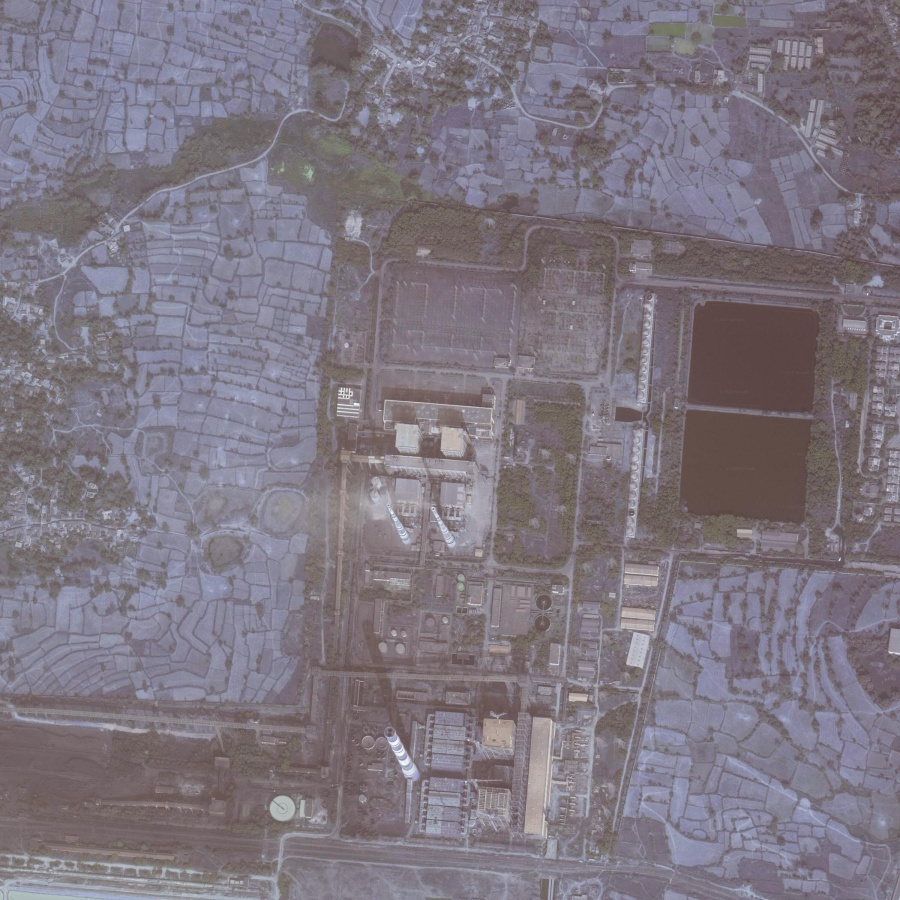PowerPlant: (340, 263, 831, 846)
